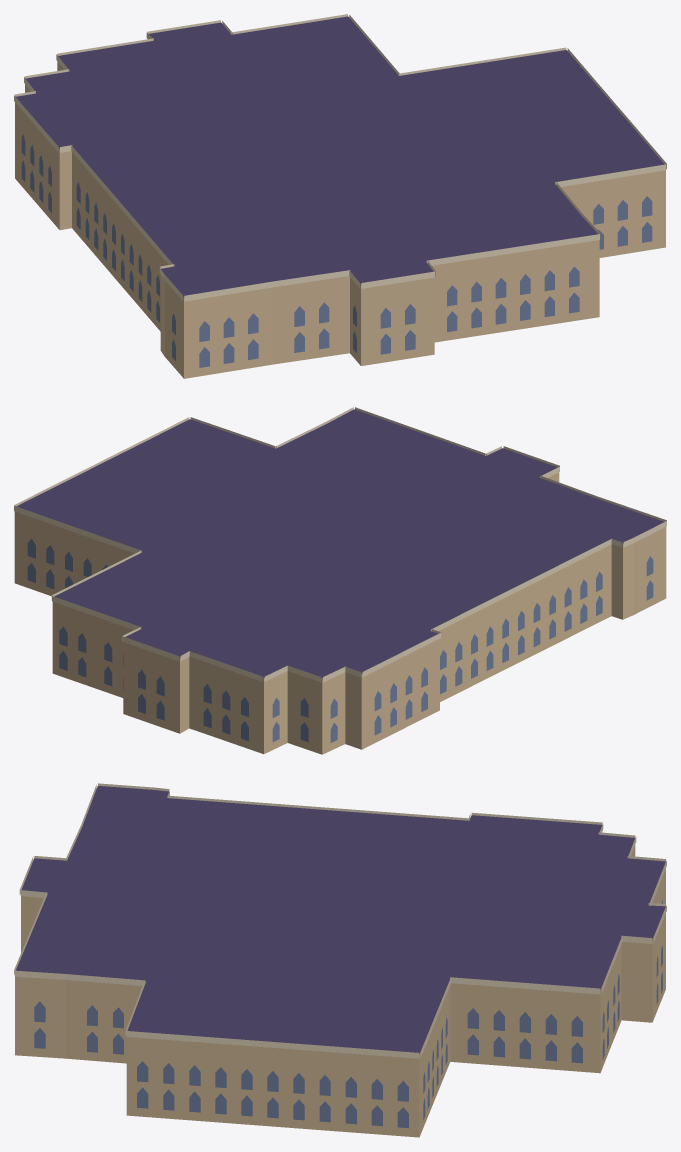
The model's file is core-thames-hall-day.glb.
3 renders of one model, top to bottom at view 1: azimuth 30°, elevation 25°; view 2: azimuth 150°, elevation 25°; view 3: azimuth 270°, elevation 25°, orthographic. The views are drawn at different scales.
Visible parts, largest first — view 1: campus/core-thames-hall-day-0; view 2: campus/core-thames-hall-day-0; view 3: campus/core-thames-hall-day-0.
Boxes of the visible parts, box(x1,y1,x2,y2) form: campus/core-thames-hall-day-0: box(14, 14, 666, 378); campus/core-thames-hall-day-0: box(14, 407, 666, 754); campus/core-thames-hall-day-0: box(14, 783, 666, 1137).
Size of the model in its own units: 72.29 by 10.65 by 74.03.
